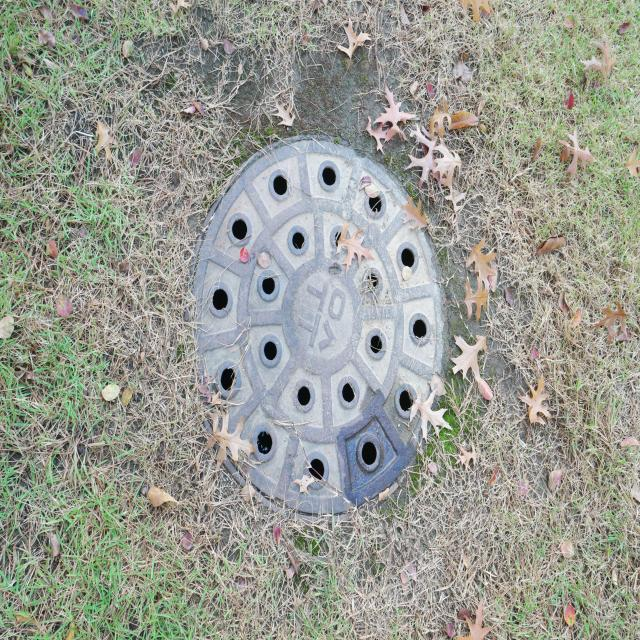manhole: (194, 138, 442, 512)
